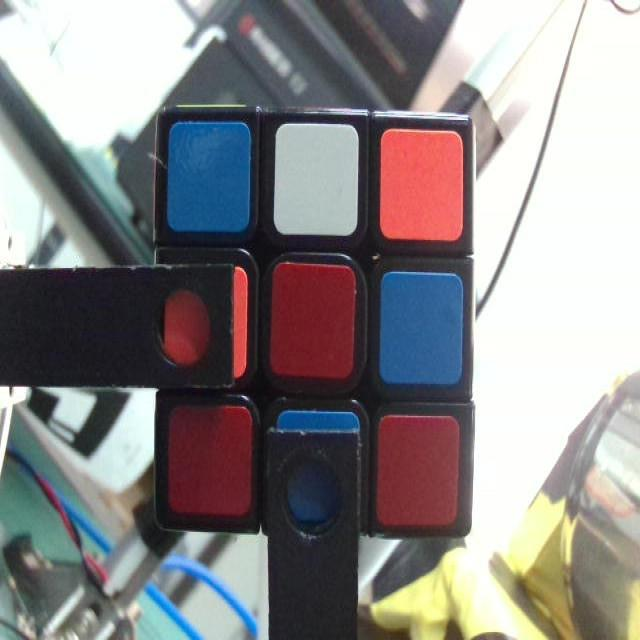b: (383, 272, 466, 381), (169, 124, 252, 232), (275, 416, 358, 518)
o: (378, 131, 463, 239), (171, 276, 245, 381)
r: (275, 264, 355, 380), (379, 418, 460, 528), (168, 412, 250, 514)
w: (278, 122, 361, 240)
